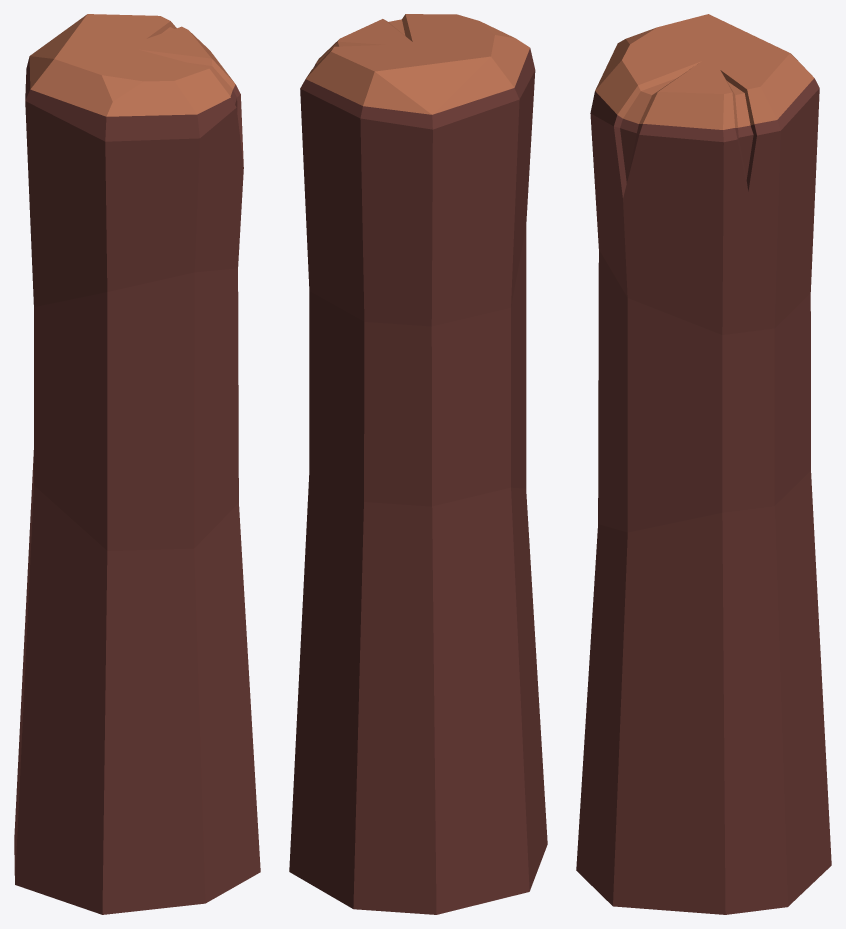
The model's file is Wooden Pole Blunt 02.fbx.
3 renders of one model, left to right at view 1: azimuth 30°, elevation 25°; view 2: azimuth 150°, elevation 25°; view 3: azimuth 270°, elevation 25°, orthographic.
Visible parts, largest first — view 1: Wooden Pole Blunt 02; view 2: Wooden Pole Blunt 02; view 3: Wooden Pole Blunt 02.
Part boxes in pixels (x1,y1,x2,y2): Wooden Pole Blunt 02: (14,14,260,914); Wooden Pole Blunt 02: (289,14,547,914); Wooden Pole Blunt 02: (576,14,831,914).
Size of the model in its own units: 30.64 by 111 by 31.62.
